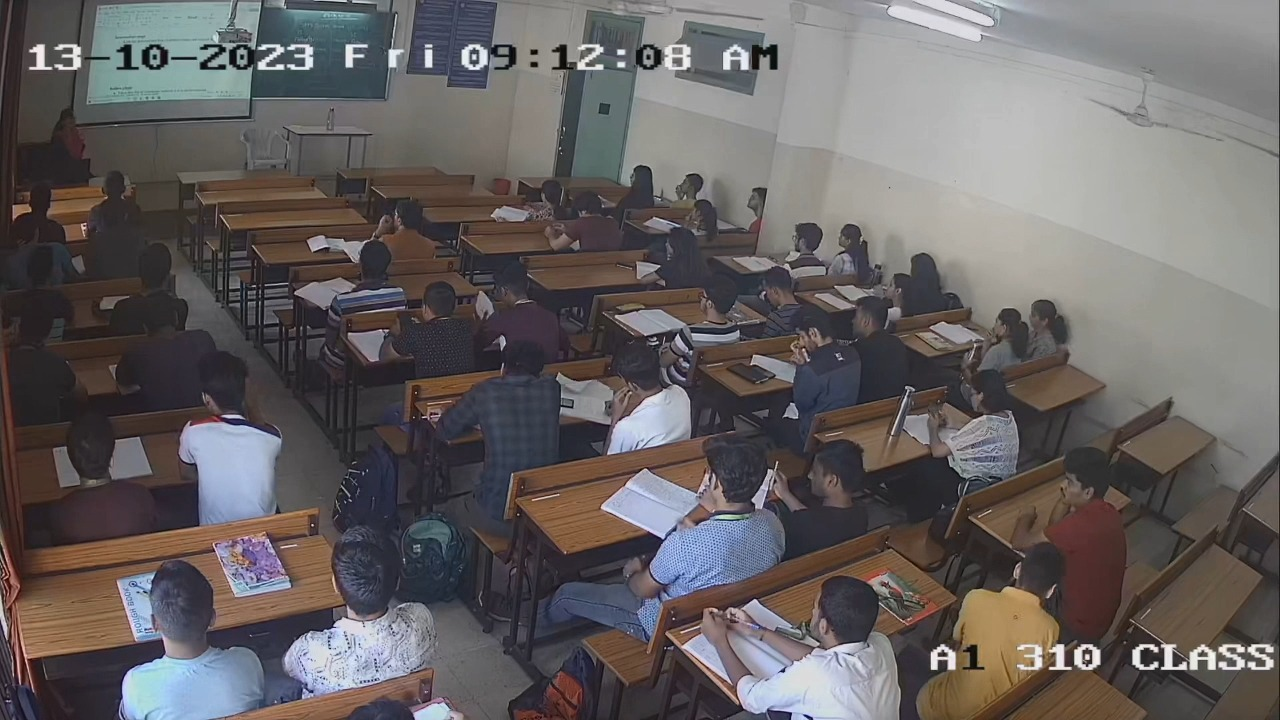cell-phones: (927, 400, 948, 428), (749, 362, 777, 380), (394, 307, 413, 330), (614, 260, 638, 274), (560, 396, 577, 410)
person: (927, 367, 1020, 480), (604, 337, 696, 441), (382, 280, 475, 374), (788, 305, 861, 403), (638, 227, 708, 286)
